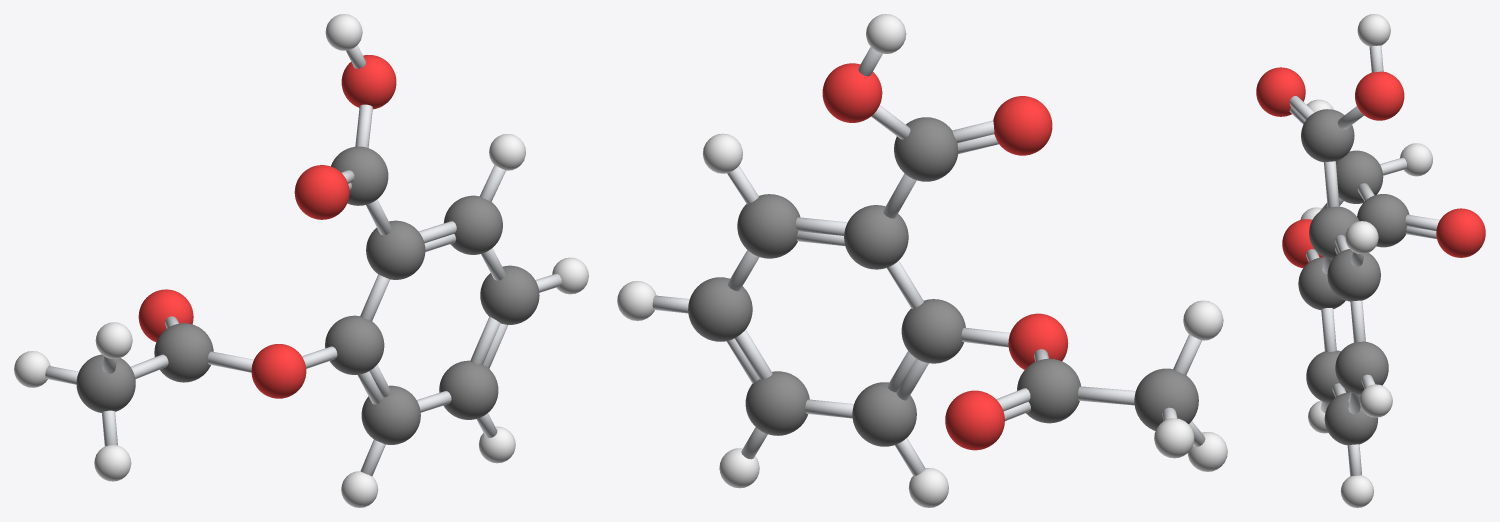
File: molecule-aspirin.glb
3 views of the same model, side by side, from view 1: azimuth 30°, elevation 25°; view 2: azimuth 150°, elevation 25°; view 3: azimuth 270°, elevation 25° (orthographic). The views are drawn at different scales.
Visible parts, largest first — view 1: bonds, carbon_1, carbon_2, carbon_5, carbon_6, carbon_8, carbon_4, carbon_3, carbon_9, oxygen_3, oxygen_1, oxygen_2 (+10 smaller); view 2: bonds, carbon_1, carbon_2, carbon_6, carbon_5, carbon_4, carbon_7, carbon_3, carbon_8, carbon_9, oxygen_4, oxygen_3 (+10 smaller); view 3: bonds, carbon_7, carbon_4, carbon_6, oxygen_4, oxygen_2, carbon_8, carbon_9, carbon_5, oxygen_3, carbon_2, carbon_1 (+8 smaller).
Boxes of the visible parts, <box> form: bonds: <box>45,45,561,476</box>; carbon_1: <box>325,315,384,374</box>; carbon_2: <box>366,220,425,279</box>; carbon_5: <box>439,360,498,419</box>; carbon_6: <box>480,265,539,324</box>; carbon_8: <box>154,323,213,382</box>; carbon_4: <box>444,195,502,254</box>; carbon_3: <box>361,385,420,444</box>; carbon_9: <box>76,354,135,412</box>; oxygen_3: <box>294,165,349,219</box>; oxygen_1: <box>251,344,306,398</box>; oxygen_2: <box>341,55,396,109</box>; bonds: <box>652,47,1205,475</box>; carbon_1: <box>901,299,965,363</box>; carbon_2: <box>844,205,908,269</box>; carbon_6: <box>688,277,752,341</box>; carbon_5: <box>745,371,809,435</box>; carbon_4: <box>737,194,800,258</box>; carbon_7: <box>894,117,958,181</box>; carbon_3: <box>852,382,916,446</box>; carbon_8: <box>1017,358,1080,423</box>; carbon_9: <box>1134,368,1198,430</box>; oxygen_4: <box>945,390,1004,450</box>; oxygen_3: <box>993,96,1052,155</box>; bonds: <box>1289,45,1439,476</box>; carbon_7: <box>1301,109,1354,162</box>; carbon_4: <box>1327,249,1380,301</box>; carbon_6: <box>1335,341,1388,394</box>; oxygen_4: <box>1436,208,1485,257</box>; oxygen_2: <box>1355,71,1404,120</box>; carbon_8: <box>1357,194,1409,247</box>; carbon_9: <box>1336,150,1383,203</box>; carbon_5: <box>1324,392,1377,445</box>; oxygen_3: <box>1256,67,1305,116</box>; carbon_2: <box>1309,206,1359,259</box>; carbon_1: <box>1298,257,1345,309</box>.
Size of the model in its own units: 0.2125 by 0.1759 by 0.0856.
